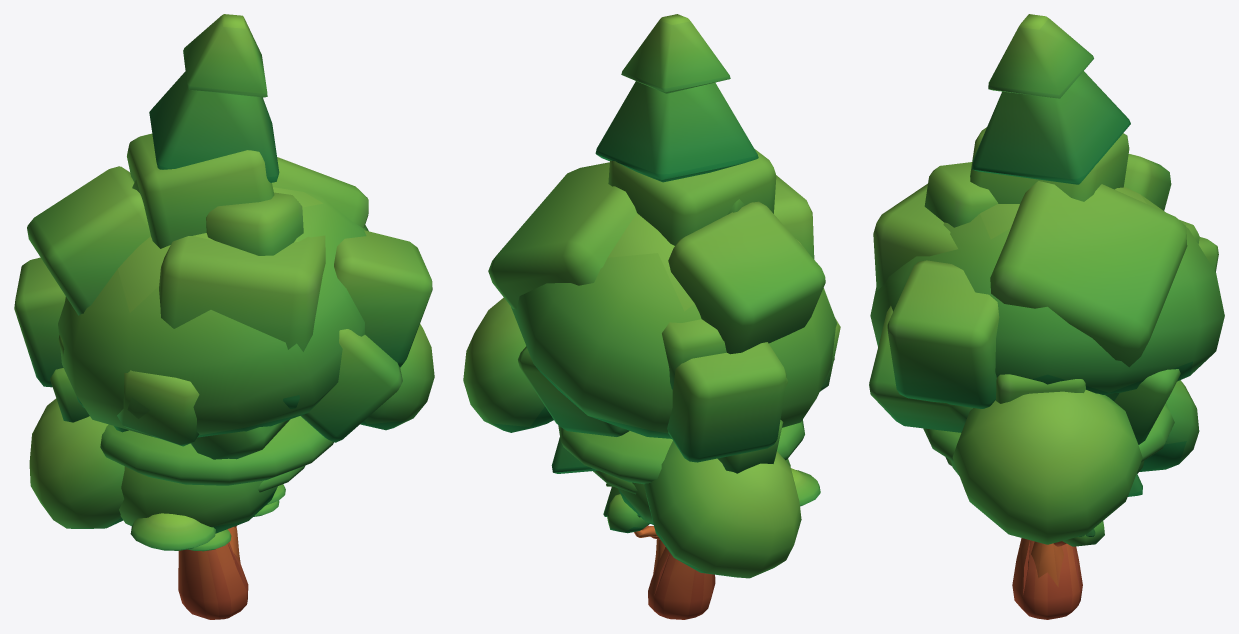
Rendered from HeroTrees.glb.
The picture shows the model from 3 angles, left to right: view 1: azimuth 30°, elevation 25°; view 2: azimuth 150°, elevation 25°; view 3: azimuth 270°, elevation 25°; orthographic projection.
Parts seen in each view (by area): view 1: Tree_2_E_Color1, Tree_1_C_Color1, Tree_4_C_Color1, Tree_3_B_Color1, Tree_1_A_Color1, Tree_2_C_Color1, Tree_3_A_Color1; view 2: Tree_1_C_Color1, Tree_2_E_Color1, Tree_4_C_Color1, Tree_3_B_Color1, Tree_1_A_Color1, Tree_2_C_Color1; view 3: Tree_2_E_Color1, Tree_1_C_Color1, Tree_4_C_Color1, Tree_3_B_Color1, Tree_1_A_Color1.
Part boxes in pixels (left/top/right/bottom): Tree_2_E_Color1: left=14, top=133, right=432, bottom=459; Tree_1_C_Color1: left=29, top=187, right=434, bottom=619; Tree_4_C_Color1: left=132, top=14, right=279, bottom=192; Tree_3_B_Color1: left=100, top=416, right=333, bottom=550; Tree_1_A_Color1: left=119, top=466, right=277, bottom=562; Tree_2_C_Color1: left=50, top=335, right=89, bottom=422; Tree_3_A_Color1: left=188, top=465, right=305, bottom=551; Tree_1_C_Color1: left=463, top=213, right=836, bottom=619; Tree_2_E_Color1: left=488, top=149, right=840, bottom=462; Tree_4_C_Color1: left=551, top=14, right=758, bottom=473; Tree_3_B_Color1: left=558, top=419, right=820, bottom=506; Tree_1_A_Color1: left=607, top=459, right=790, bottom=575; Tree_2_C_Color1: left=717, top=378, right=787, bottom=473; Tree_2_E_Color1: left=869, top=127, right=1218, bottom=444; Tree_1_C_Color1: left=870, top=186, right=1224, bottom=619; Tree_4_C_Color1: left=972, top=14, right=1142, bottom=496; Tree_3_B_Color1: left=923, top=403, right=1174, bottom=465; Tree_1_A_Color1: left=951, top=460, right=1144, bottom=586.
Bounding box in the file's own units: 6.89 × 10.83 × 5.77.
Materials: 1 (1 with a texture image).
